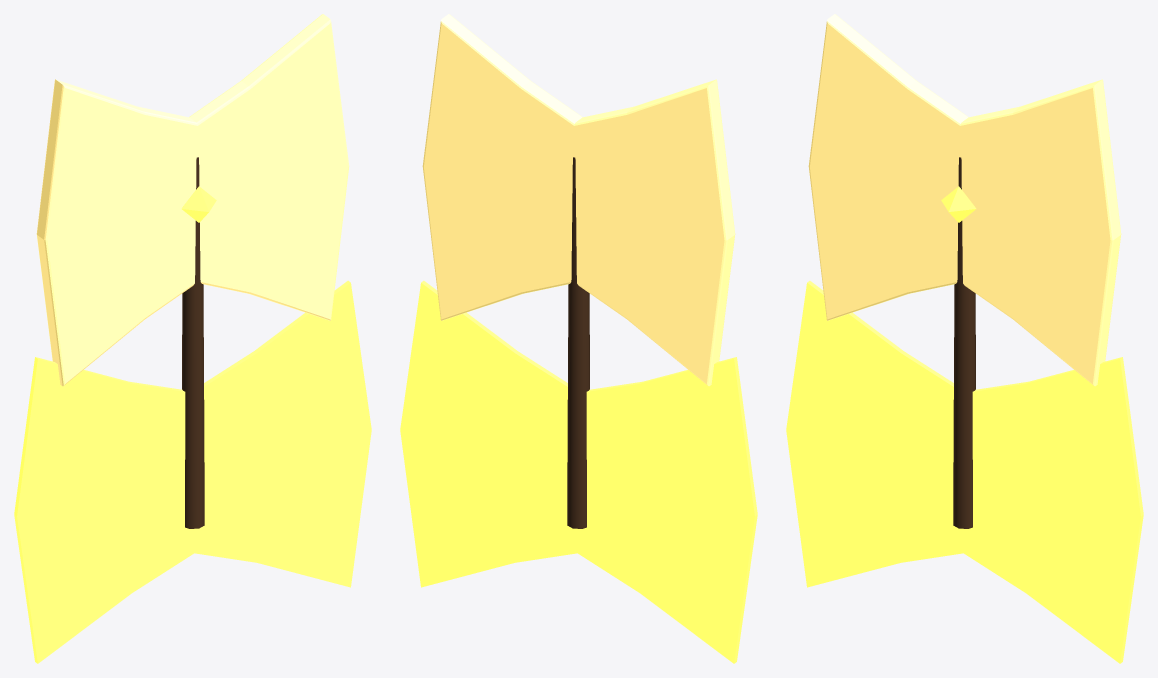
File: axe_f3_23d636ff.glb
3 views of the same model, side by side, from view 1: azimuth 30°, elevation 25°; view 2: azimuth 150°, elevation 25°; view 3: azimuth 330°, elevation 25° (orthographic).
Visible parts, largest first — view 1: m7_ow80_, m2_gm110_, m1_gm110_, m0_ow80_, m6_gm160_; view 2: m7_ow80_, m2_gm110_, m1_gm110_, m0_ow80_; view 3: m7_ow80_, m1_gm110_, m2_gm110_, m0_ow80_, m6_gm160_.
Boxes of the visible parts, left/top/right/bottom form: m7_ow80_: left=36, top=14, right=349, bottom=386; m2_gm110_: left=14, top=357, right=194, bottom=663; m1_gm110_: left=194, top=280, right=371, bottom=587; m0_ow80_: left=182, top=157, right=204, bottom=528; m6_gm160_: left=181, top=186, right=216, bottom=222; m7_ow80_: left=422, top=14, right=735, bottom=386; m2_gm110_: left=577, top=357, right=757, bottom=663; m1_gm110_: left=400, top=280, right=577, bottom=587; m0_ow80_: left=567, top=157, right=589, bottom=528; m7_ow80_: left=808, top=14, right=1121, bottom=386; m1_gm110_: left=963, top=357, right=1143, bottom=663; m2_gm110_: left=786, top=280, right=963, bottom=587; m0_ow80_: left=953, top=157, right=975, bottom=528; m6_gm160_: left=941, top=186, right=976, bottom=222.
Size of the model in its own units: 2.01 by 3.11 by 0.22.
